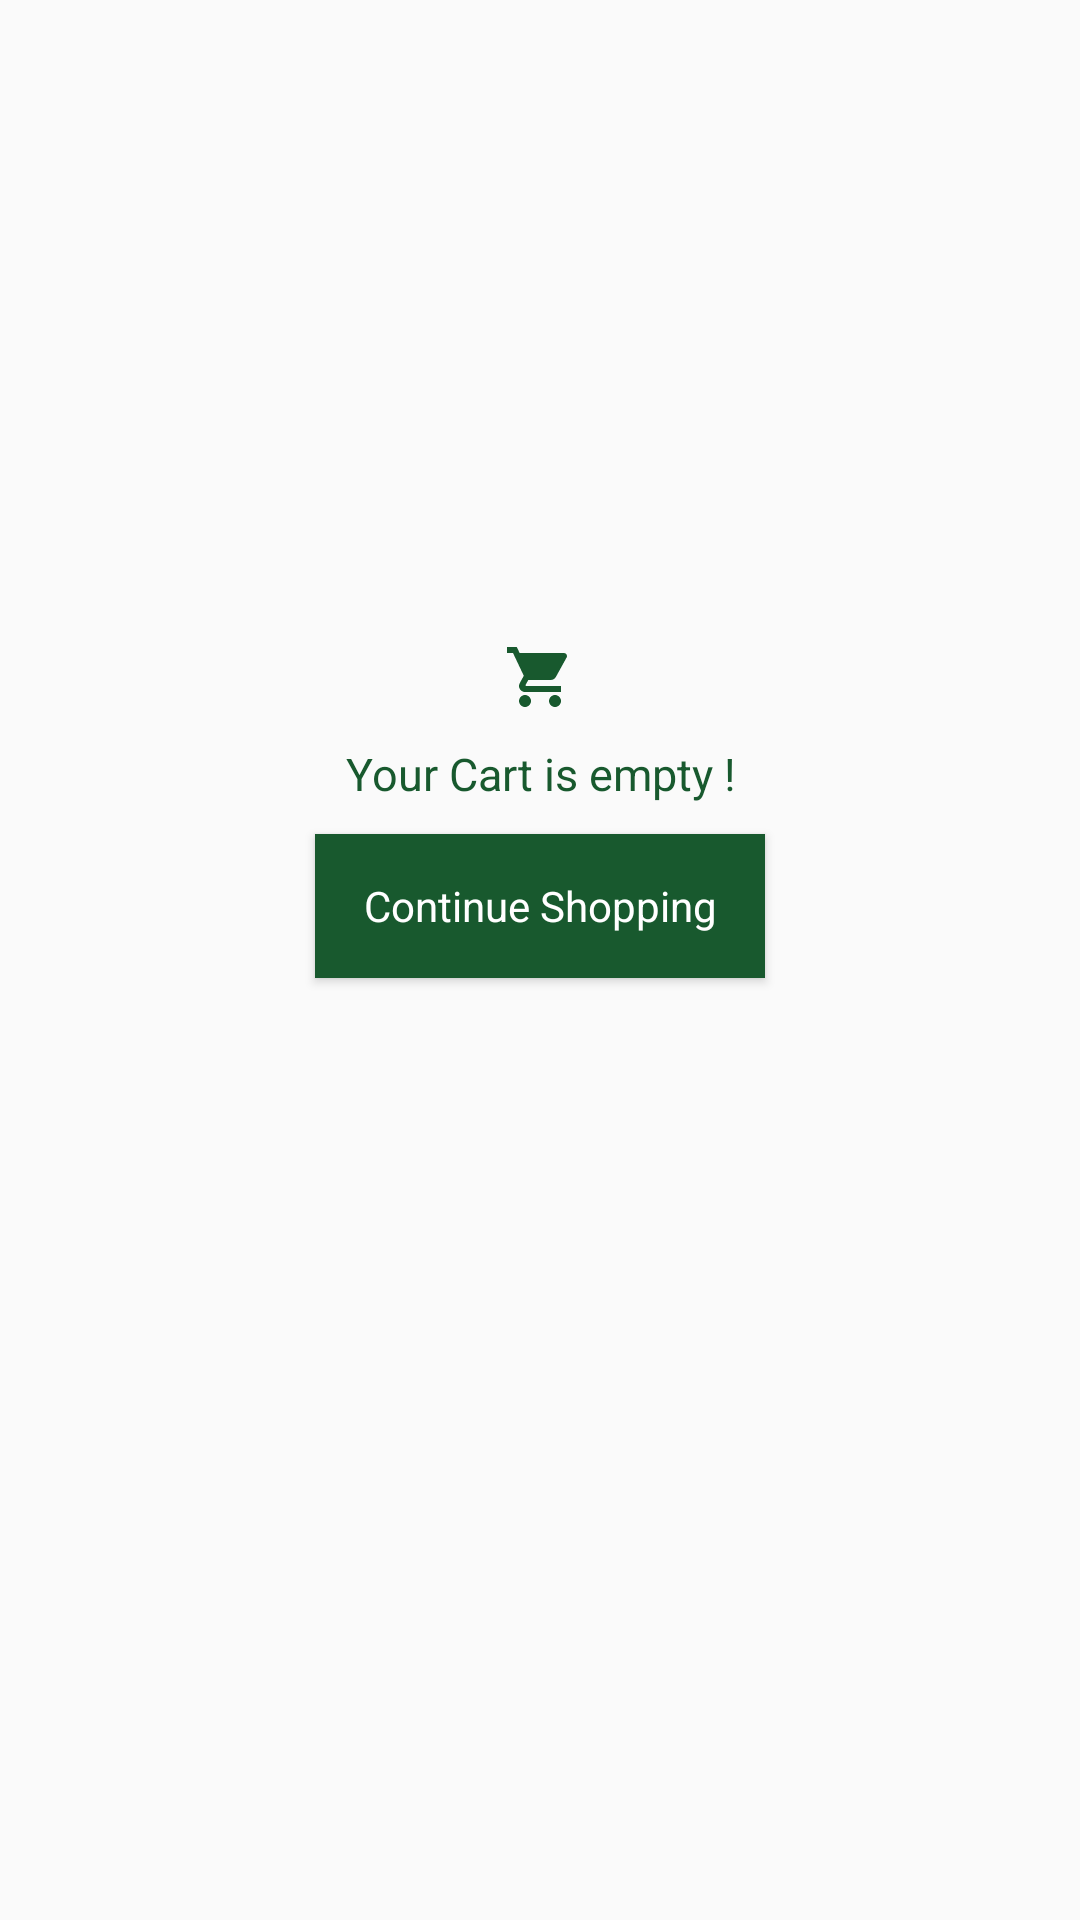

Point at icon controls on the screen. Image size 1080*1920, points as point (x, y).
shopping cart: point (537, 677)
